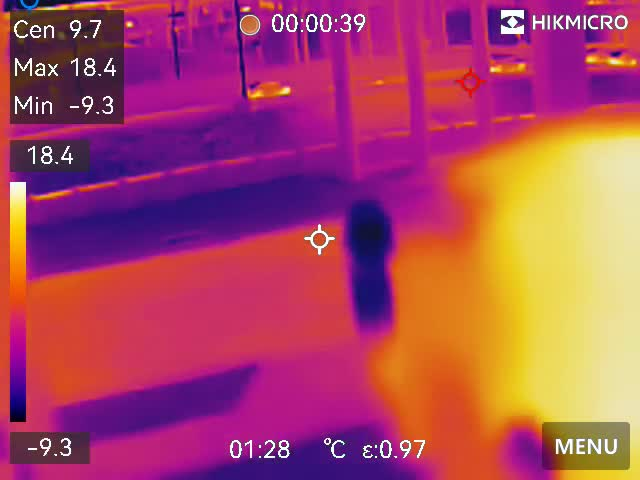vehicle: (480, 49, 536, 78), (238, 78, 299, 100)
